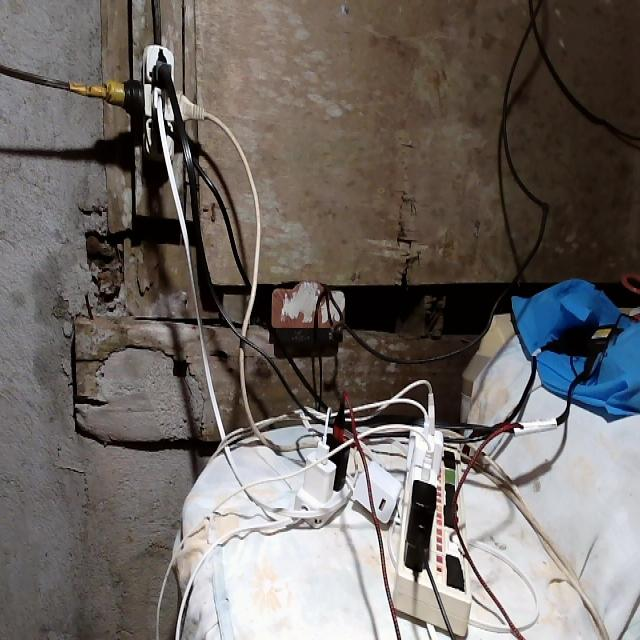-: (90, 44, 226, 160)
